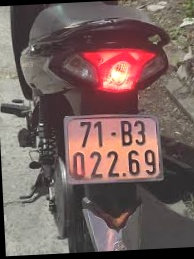Bien-so: (64, 113, 164, 185)
